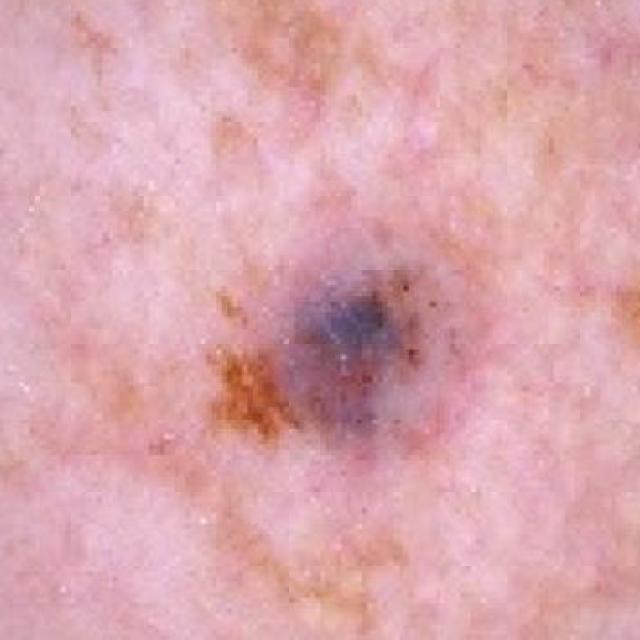BCC: (67, 144, 624, 610)
